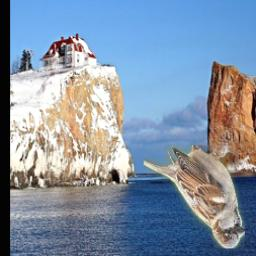Sparrow: (144, 146, 245, 249)
